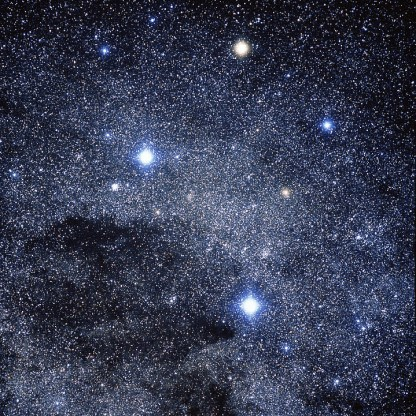Southern Cross: (231, 283, 276, 332), (129, 141, 161, 176), (226, 32, 254, 64), (314, 107, 343, 136)
